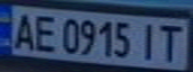0: (57, 15, 81, 55)
1: (96, 17, 115, 57)
5: (112, 18, 136, 60)
9: (78, 17, 100, 56)
A: (9, 9, 39, 51)
E: (30, 11, 60, 53)
I: (136, 20, 163, 61)
T: (154, 20, 187, 63)
